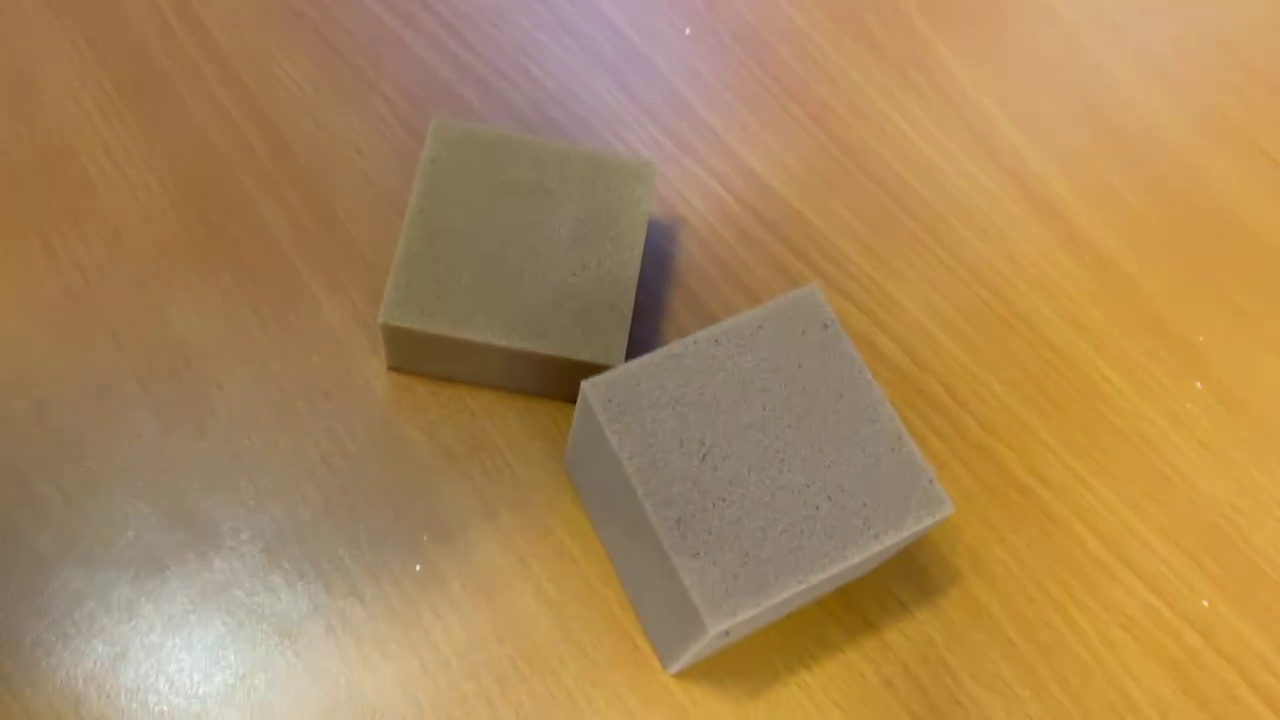Cube: (551, 271, 964, 682)
Cube_short: (368, 103, 658, 407)
